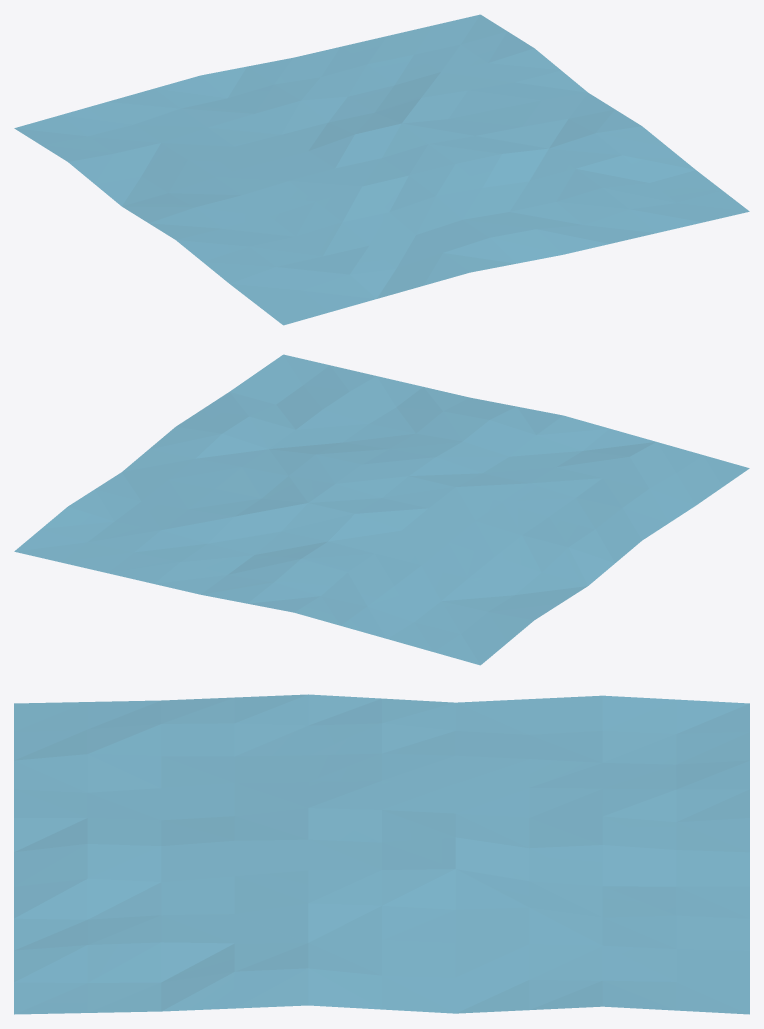
Rendered from terrains-terrain-plane-water.glb.
The picture shows the model from 3 angles, top to bottom: view 1: azimuth 30°, elevation 25°; view 2: azimuth 150°, elevation 25°; view 3: azimuth 270°, elevation 25°; orthographic projection. The views are drawn at different scales.
Visible parts, largest first — view 1: terrain-plane-water; view 2: terrain-plane-water; view 3: terrain-plane-water.
Part boxes in pixels (<box>): terrain-plane-water: <box>14,14,749,325</box>; terrain-plane-water: <box>14,354,749,665</box>; terrain-plane-water: <box>14,694,749,1014</box>.
Bounding box in the file's own units: 30 × 0.988 × 30.
